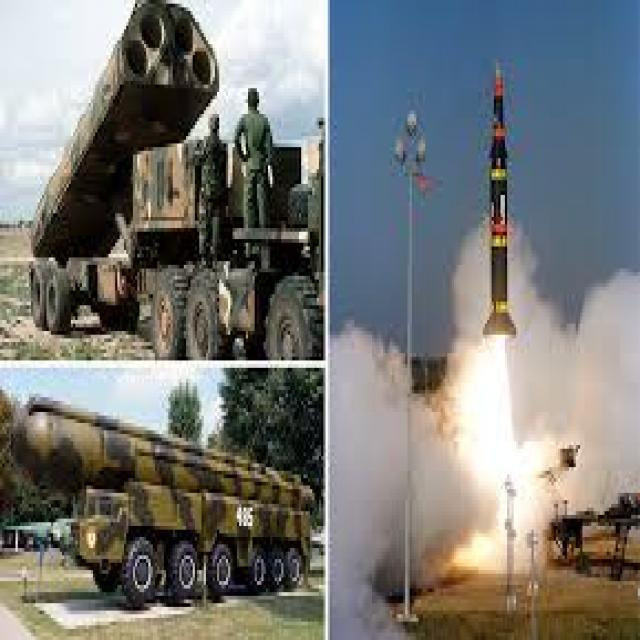Missile: (482, 62, 518, 342)
